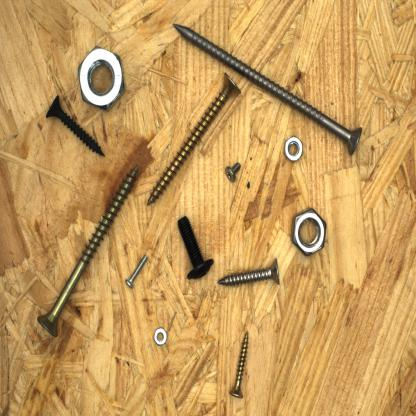screw: (170, 20, 364, 158), (36, 162, 141, 339), (145, 67, 243, 209), (42, 92, 108, 158), (176, 210, 215, 284), (216, 255, 281, 289), (226, 327, 251, 400), (124, 252, 150, 289), (222, 161, 246, 185)
